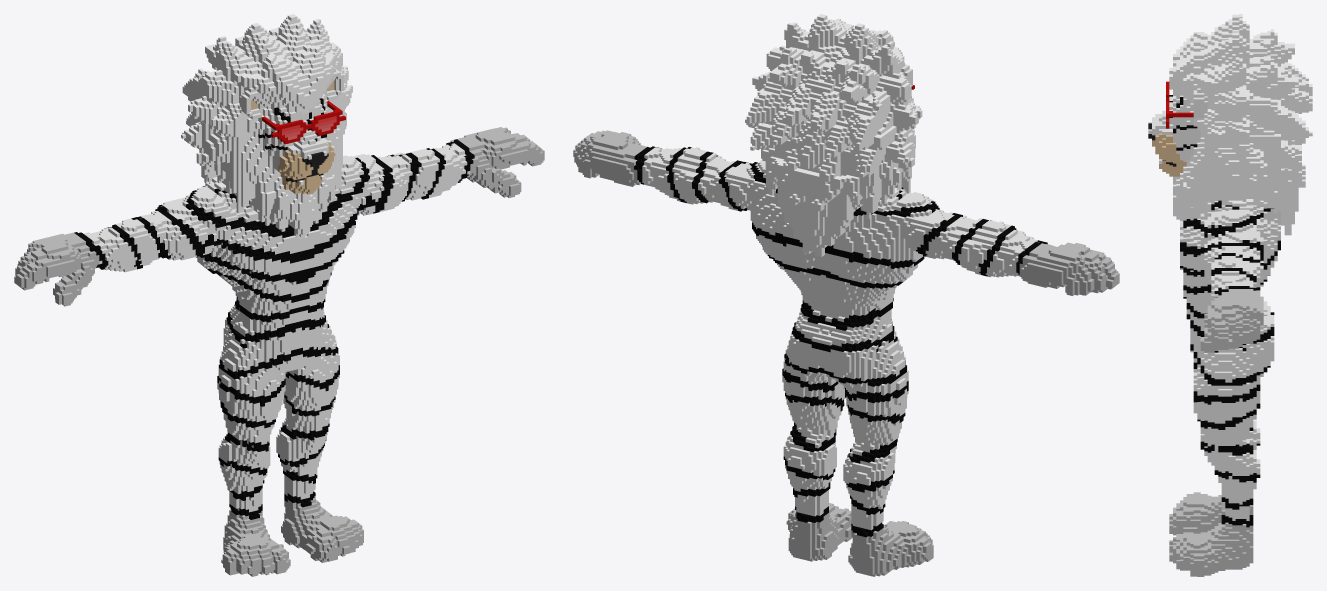
The picture shows the model from 3 angles, left to right: view 1: azimuth 30°, elevation 25°; view 2: azimuth 150°, elevation 25°; view 3: azimuth 270°, elevation 25°; orthographic projection. The views are drawn at different scales.
Visible parts, largest first — view 1: standard; view 2: standard; view 3: standard.
Boxes of the visible parts, bbox=[...] form: standard: bbox=[14, 14, 544, 576]; standard: bbox=[573, 14, 1119, 576]; standard: bbox=[1148, 14, 1312, 576].
Size of the model in its own units: 17.2 by 16.5 by 4.7.
Materials: 4 (4 with a texture image).
